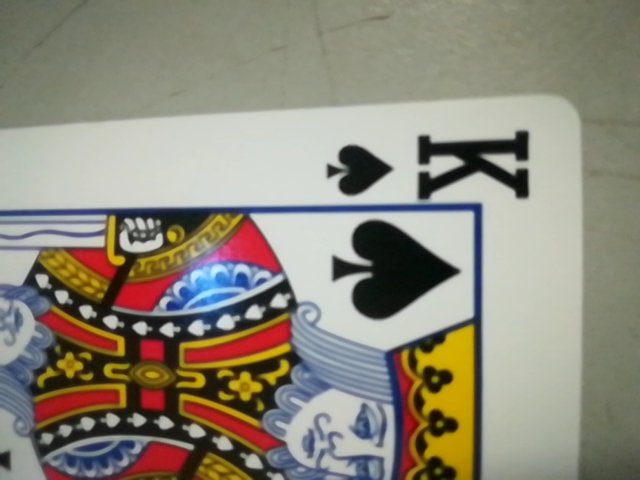ht k: (315, 125, 535, 208)
